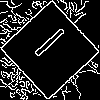I: (25, 25, 68, 66)
